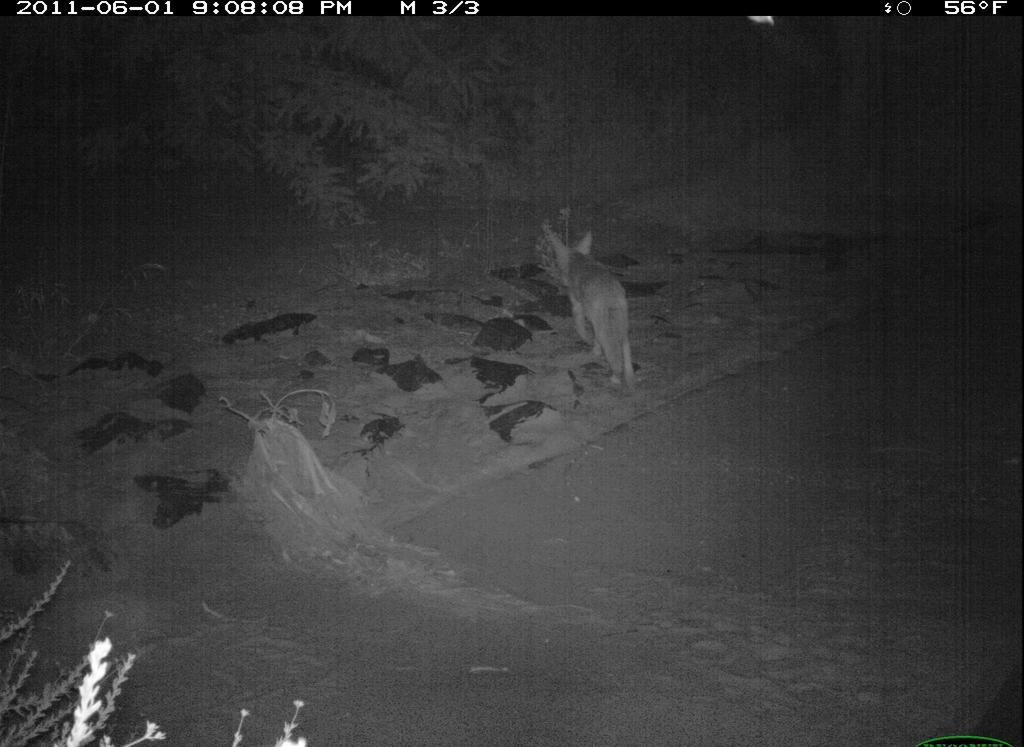coyote: (536, 222, 651, 408)
